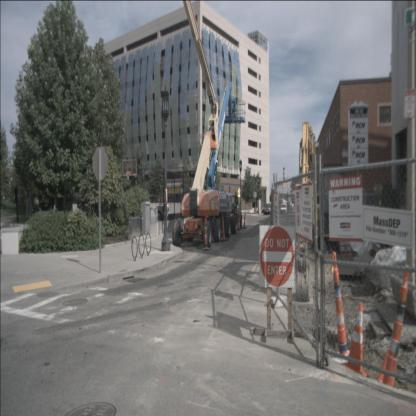cone: (378, 267, 410, 397), (331, 251, 351, 358), (341, 302, 369, 377), (371, 346, 394, 411), (202, 218, 210, 252), (220, 215, 228, 242), (236, 208, 242, 234), (242, 212, 246, 228)
